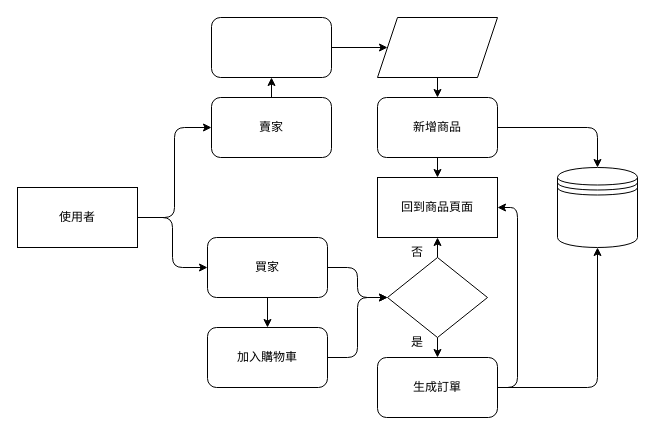
Some shapes in this 655 by 435 pixel diagram are drawn without their labels. The shapes that lost their labels are listed below. From the top down, each one's centre as x and y in pixels, then its label:
At pixel 271 47: "建立商店".
At pixel 437 47: "輸入商品資訊".
At pixel 597 207: "寫入資料庫".
At pixel 437 297: "是否購買商品".
